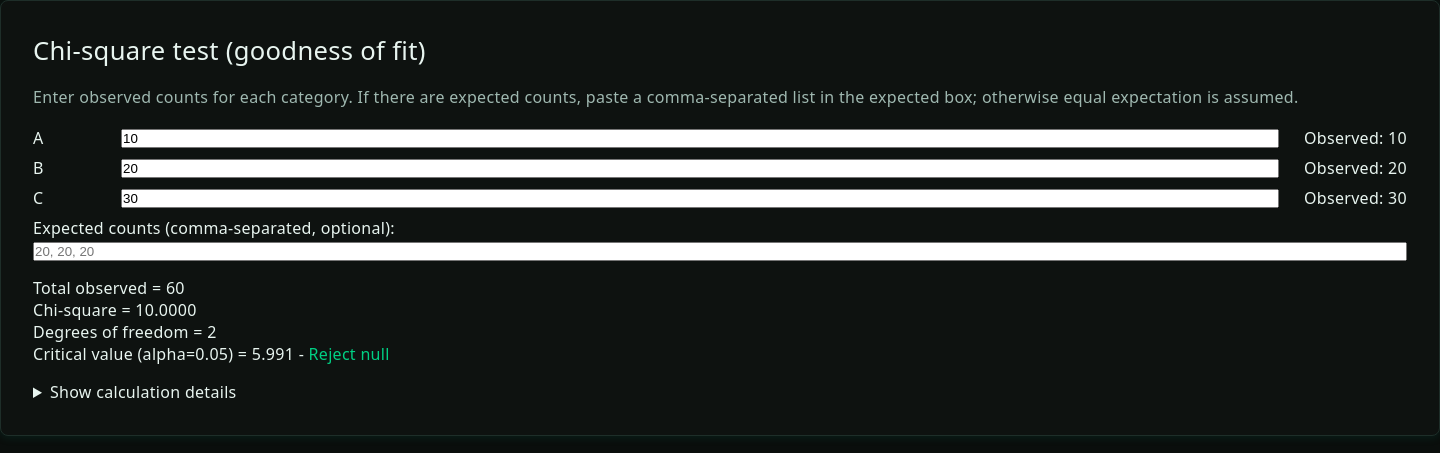
Test: ChiSquareCalculator › accepts user edits to observed counts and updates total
This screenshot has width=1440, height=453.
Replace the text in the number field labelled "A Observed: 10" with "15" at (700, 138), box [121,129,1279,148]
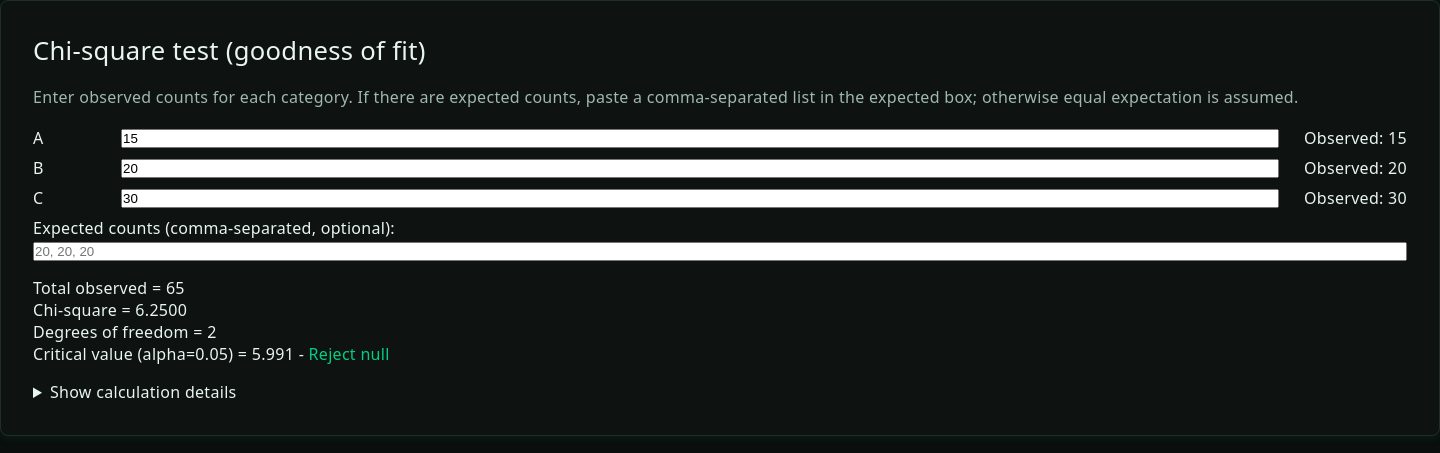
expect the text "Total observed = 65" is shown: met, box [33,277,185,299]
